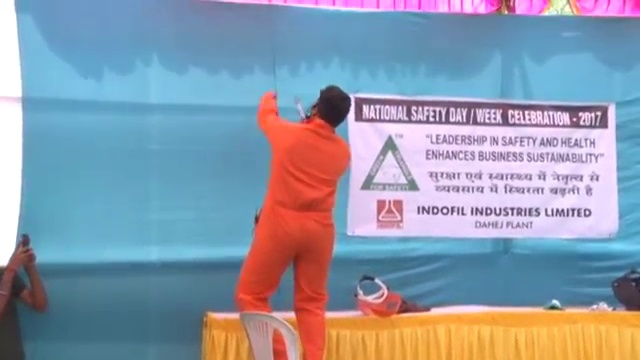helmet_off: (302, 85, 351, 130)
person: (234, 84, 350, 360), (1, 231, 48, 360)
